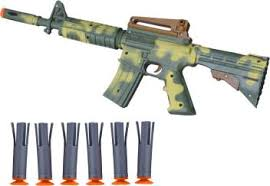gun: (1, 0, 269, 120)
